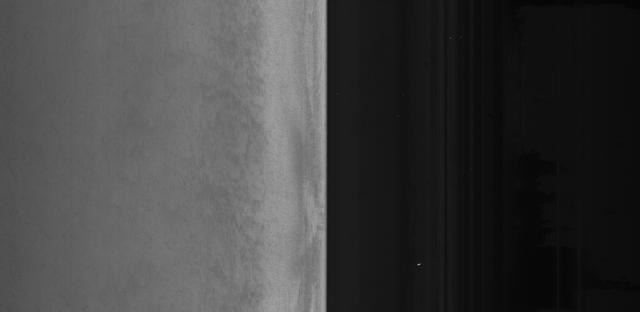silk_spot: (215, 81, 262, 210)
